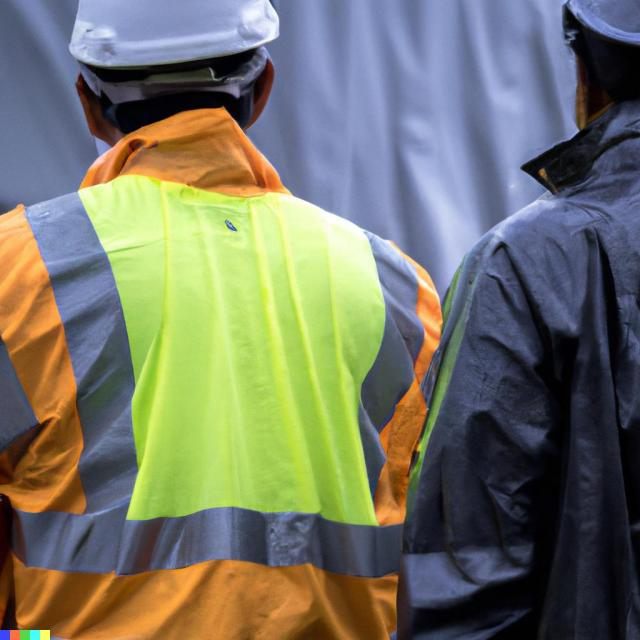Reflective-Jacket: (0, 99, 434, 639)
Safety-Helmet: (62, 0, 286, 72), (555, 0, 640, 48)
